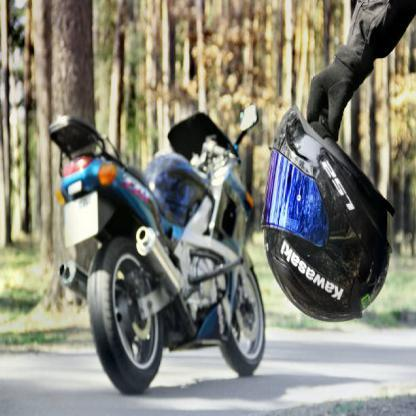Motorcycle: (44, 92, 269, 393)
